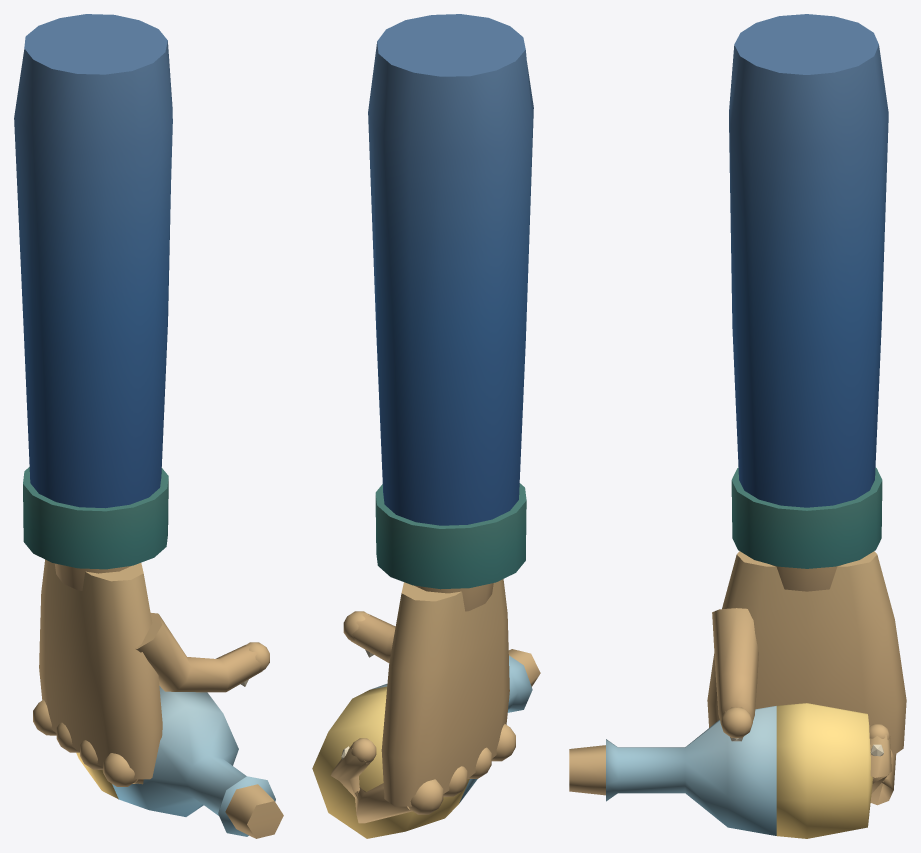
The model's file is merchant_lio_fore_r.glb.
The picture shows the model from 3 angles, left to right: view 1: azimuth 30°, elevation 25°; view 2: azimuth 150°, elevation 25°; view 3: azimuth 270°, elevation 25°; orthographic projection. The views are drawn at different scales.
Parts seen in each view (by area): view 1: merchant_lio_fore_r; view 2: merchant_lio_fore_r; view 3: merchant_lio_fore_r.
Part boxes in pixels (left/top/right/bottom): merchant_lio_fore_r: left=14, top=14, right=283, bottom=838; merchant_lio_fore_r: left=312, top=14, right=540, bottom=838; merchant_lio_fore_r: left=569, top=14, right=906, bottom=838.
Bounding box in the file's own units: 0.404 × 1.44 × 0.5756.
1 material, 1 textured.
